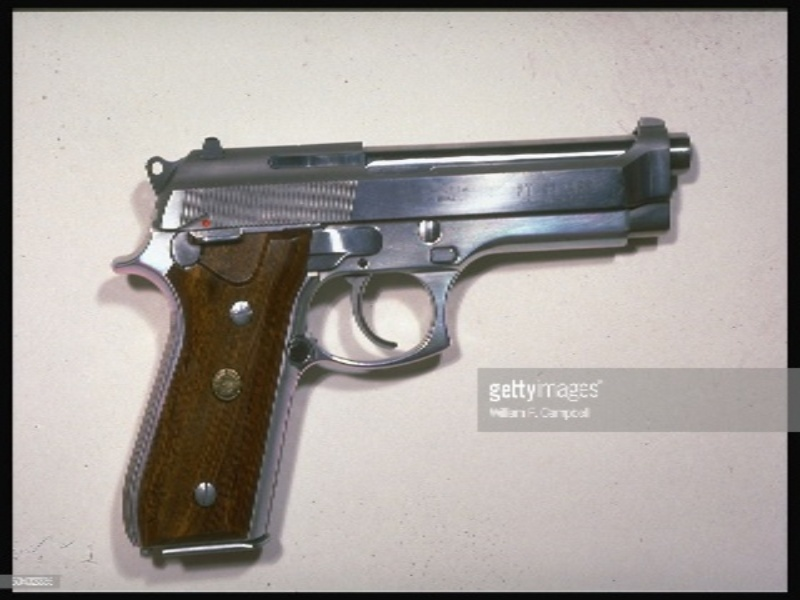weapon: (112, 117, 690, 554)
